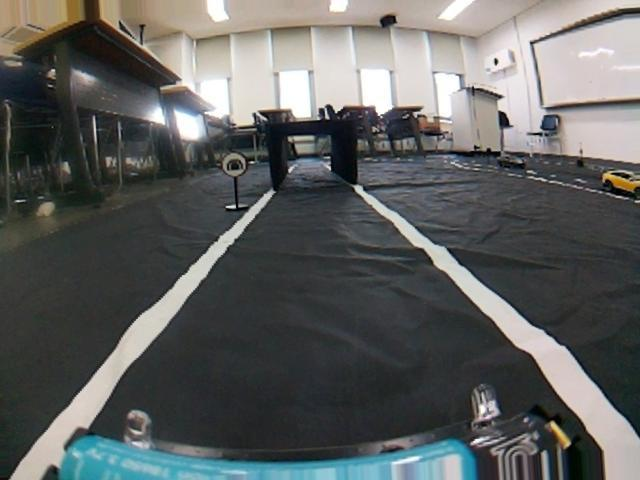sign_tunnel: (216, 145, 254, 183)
straight: (20, 281, 632, 470)
